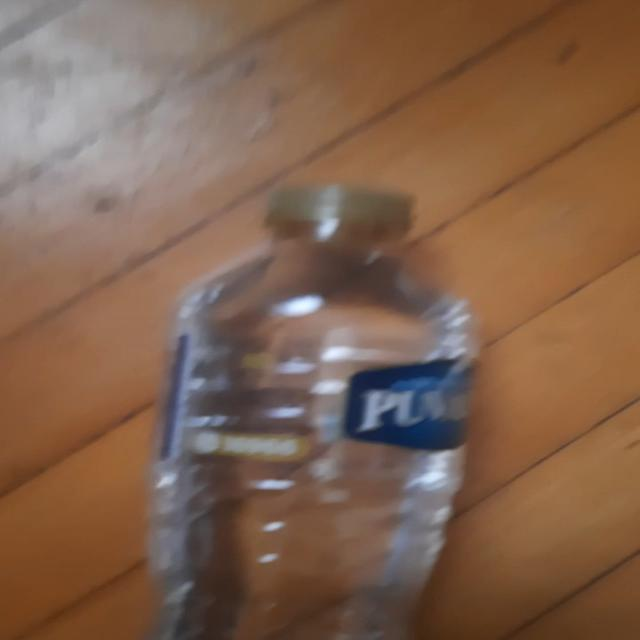Plastic: (145, 183, 482, 640)
